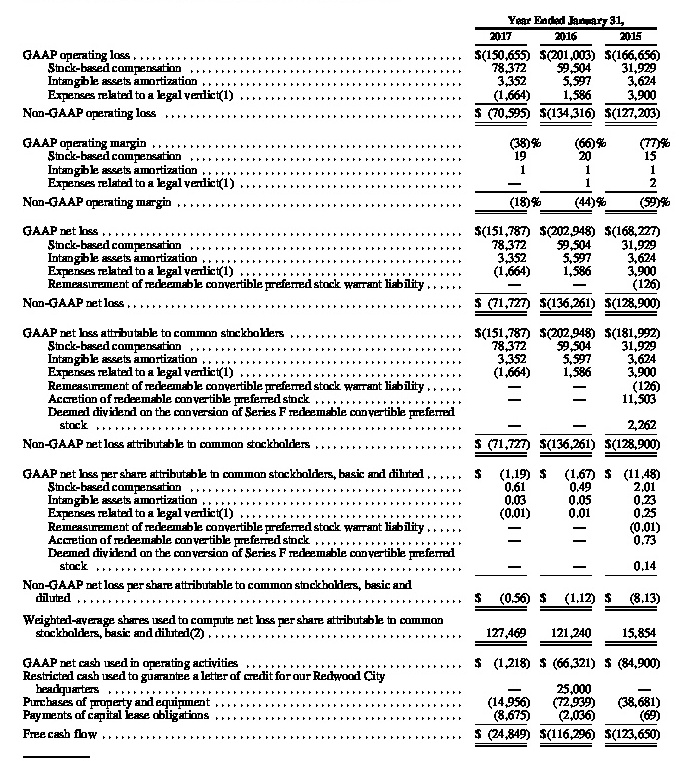table: (0, 0, 695, 761)
